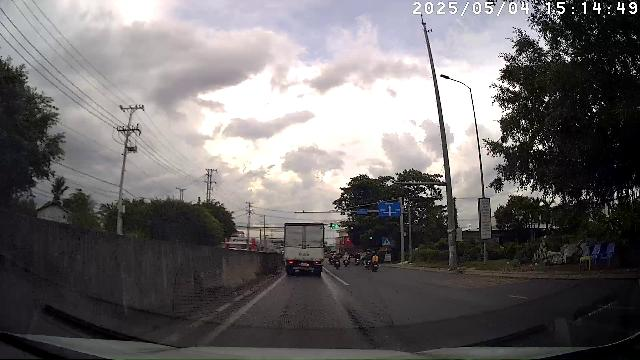423a-duong-nguoi-di-bo-sang-ngang-1: (382, 236, 392, 246)
